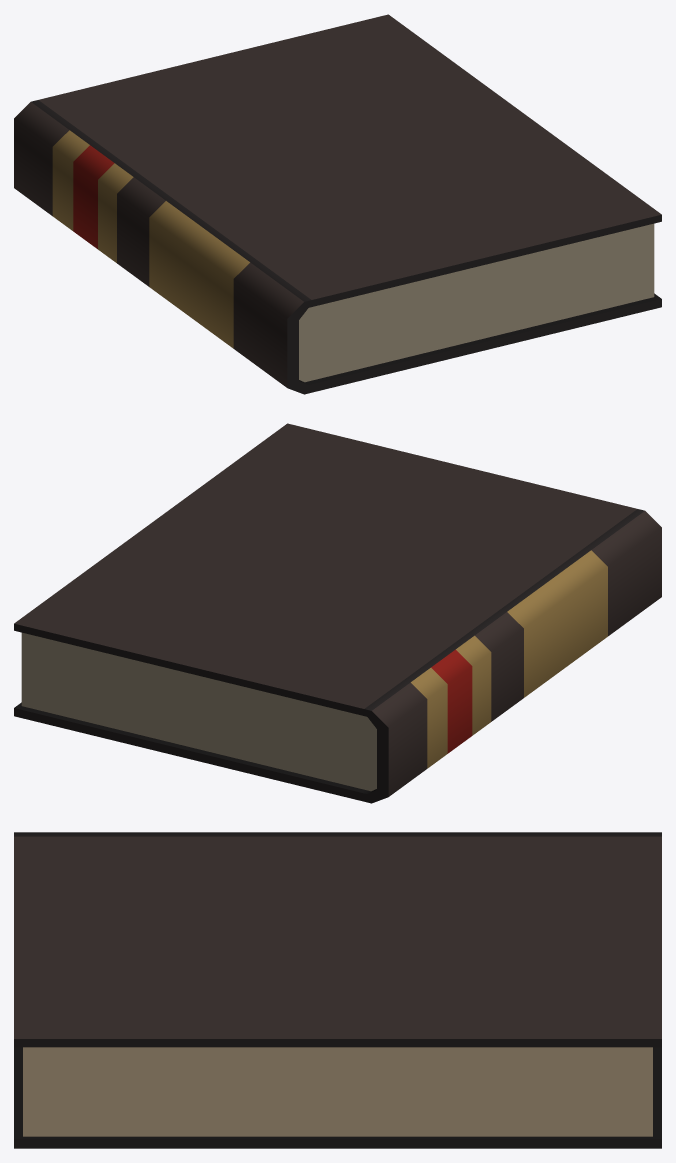
File: human-household-items-book_v3.glb
The picture shows the model from 3 angles, top to bottom: view 1: azimuth 30°, elevation 25°; view 2: azimuth 150°, elevation 25°; view 3: azimuth 270°, elevation 25°; orthographic projection. The views are drawn at different scales.
Visible parts, largest first — view 1: Book_v3; view 2: Book_v3; view 3: Book_v3.
Boxes of the visible parts, x1,y1,x2,y2 form: Book_v3: (14,14,661,394); Book_v3: (14,423,661,803); Book_v3: (14,832,661,1148).
Bounding box in the file's own units: 0.1977 × 0.0467 × 0.25.
